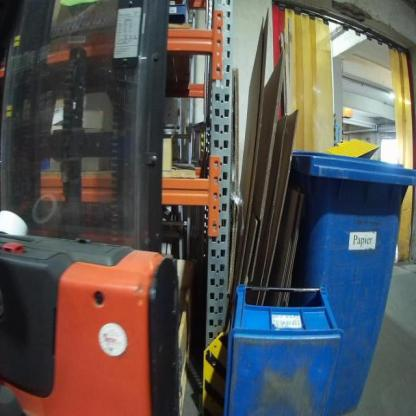pallet_truck: (2, 2, 186, 415)
